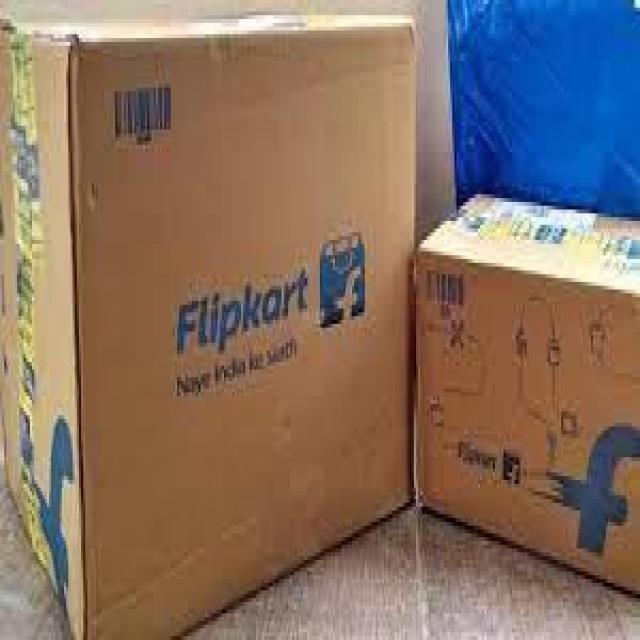box: (0, 0, 416, 632), (416, 190, 638, 589)
